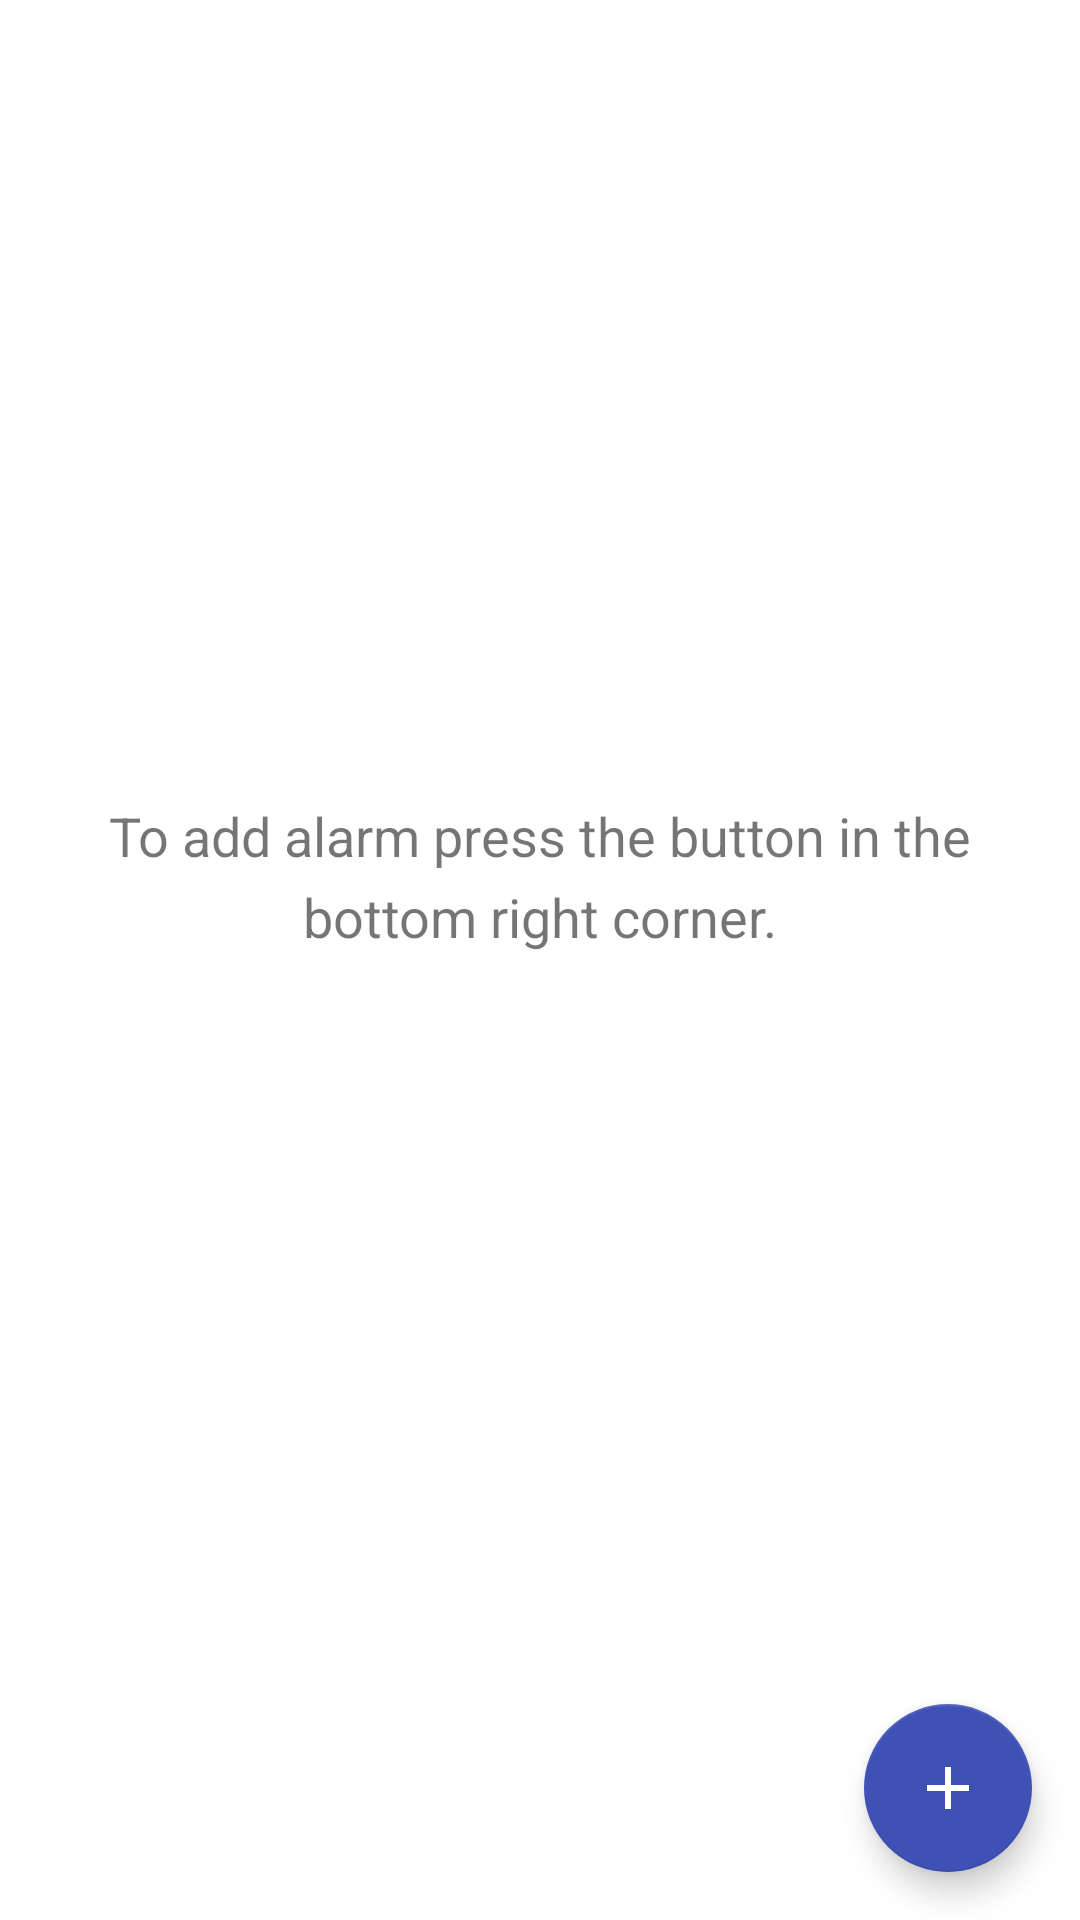

Icon bounding boxes for this 1080×1920 phone screenshot, format bbox=(x1, y1, x2, y2):
Add alarm: bbox=(864, 1704, 1032, 1872)
